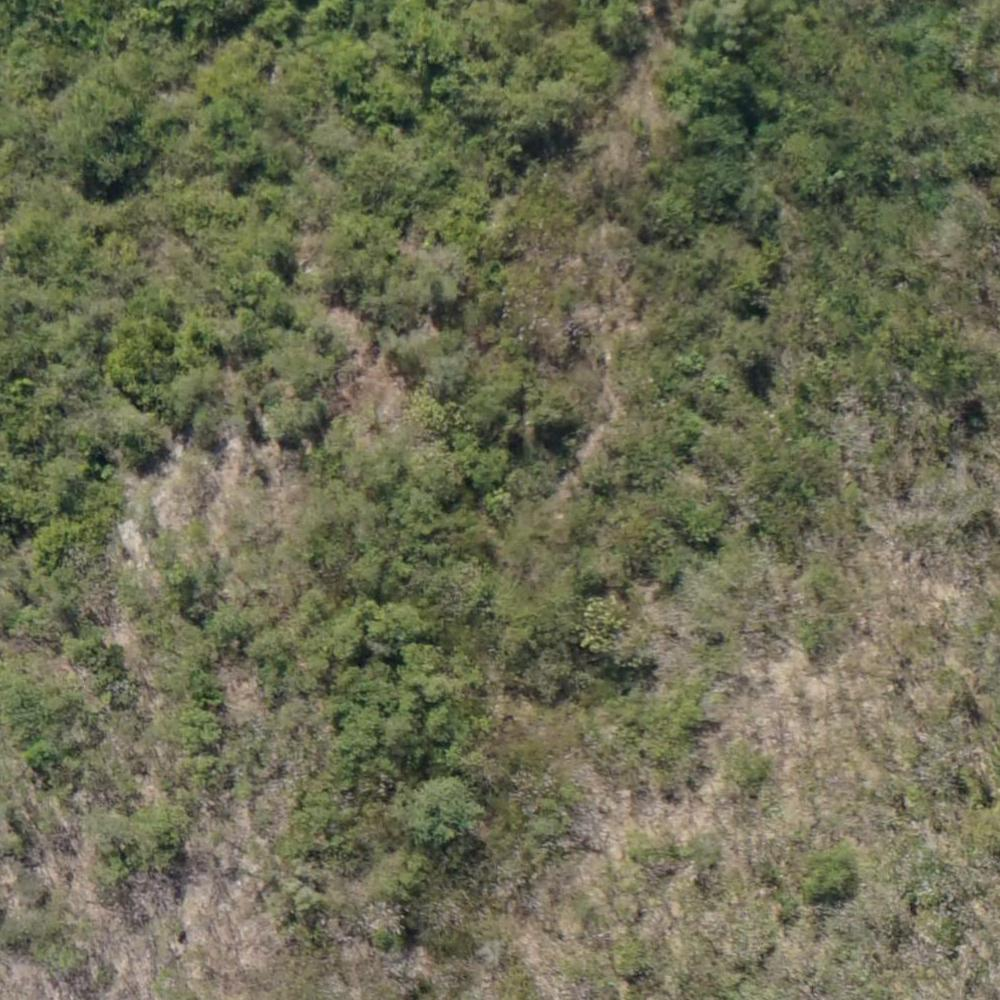tree: (405, 774, 473, 836), (582, 593, 642, 658), (409, 253, 464, 320), (364, 66, 423, 124), (596, 1, 659, 46), (199, 99, 258, 144), (780, 124, 825, 182), (802, 851, 853, 902), (677, 496, 730, 544), (721, 315, 768, 366), (266, 396, 314, 444), (175, 709, 222, 757), (405, 485, 445, 540), (366, 605, 412, 650), (175, 320, 220, 362), (703, 66, 749, 106), (472, 441, 512, 487), (659, 187, 701, 230), (234, 272, 279, 311), (531, 389, 572, 430), (427, 354, 468, 394), (212, 605, 245, 648), (342, 710, 378, 749), (29, 744, 58, 781), (191, 404, 223, 435), (488, 487, 516, 521)
